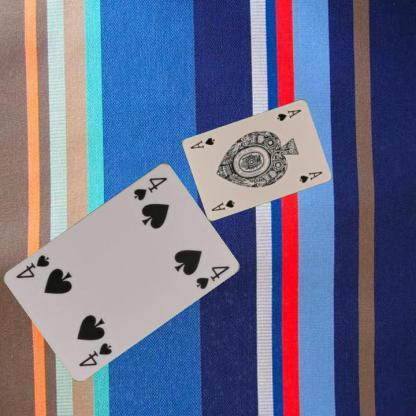4s: (76, 339, 114, 368), (130, 174, 168, 202)
As: (274, 107, 302, 122), (209, 197, 236, 212)
